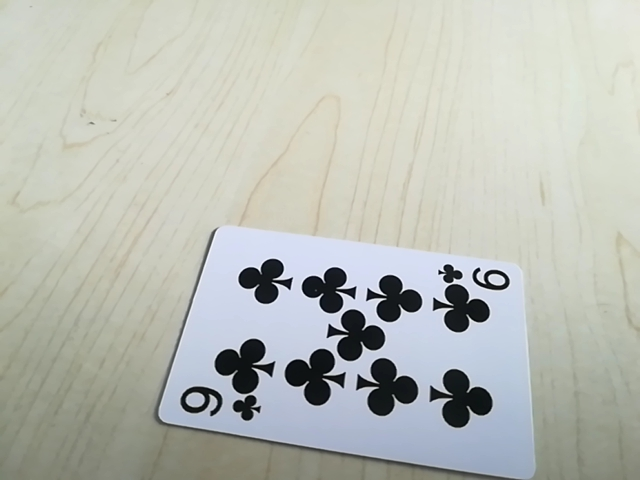mh 9: (170, 390, 265, 425), (437, 262, 514, 293)
